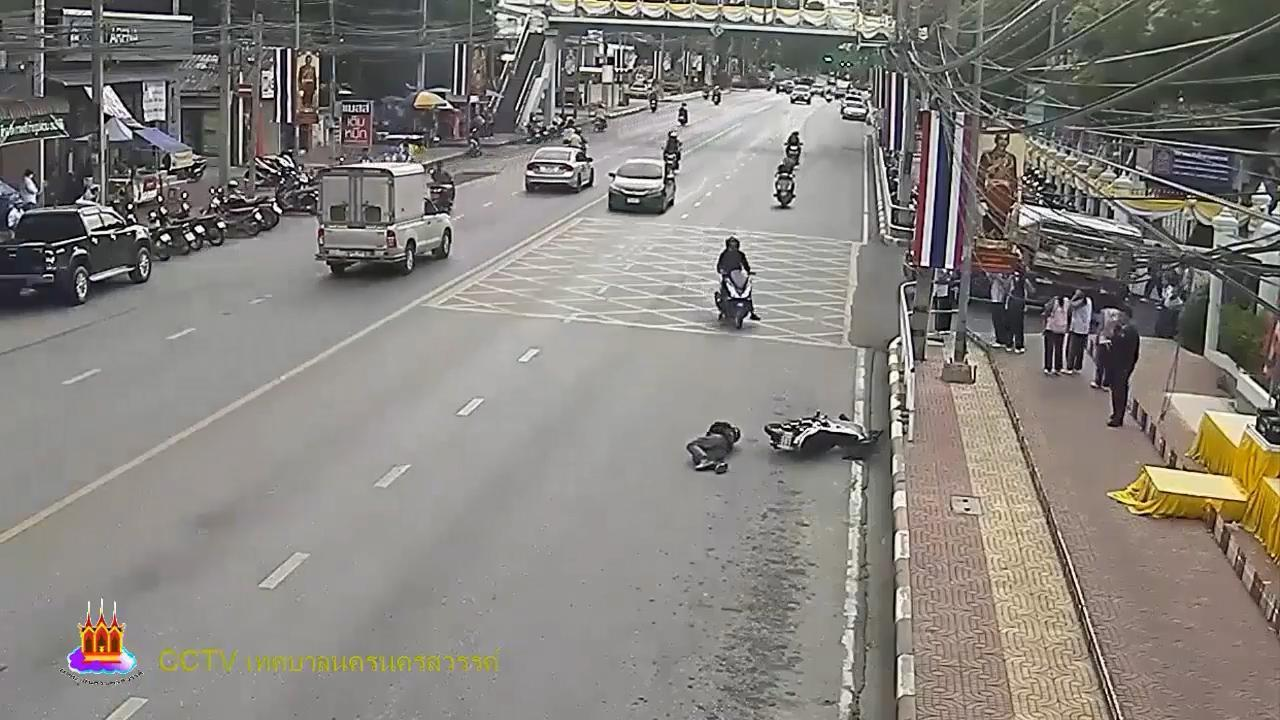accident: (687, 416, 744, 477)
